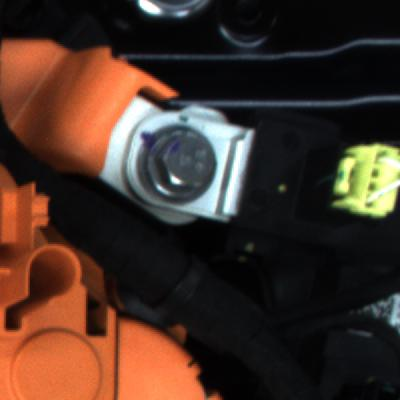nut_b: (130, 117, 219, 205)
